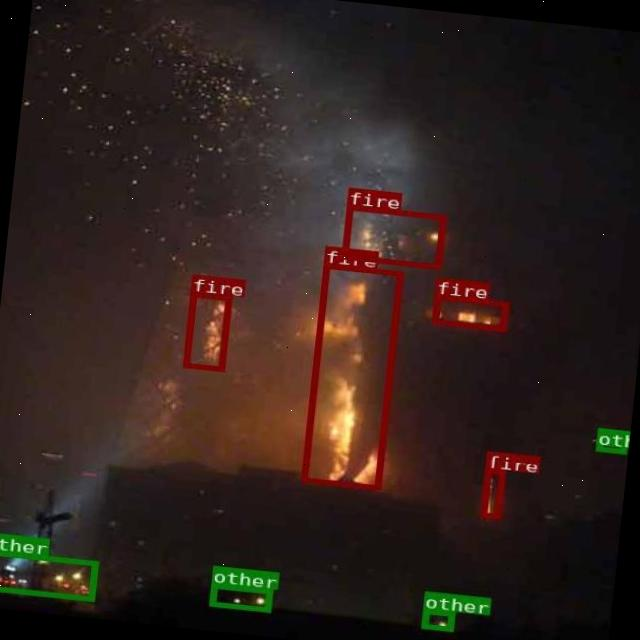fire: (299, 263, 402, 489), (341, 203, 444, 268), (182, 290, 232, 370), (431, 294, 507, 330), (480, 467, 504, 518)
